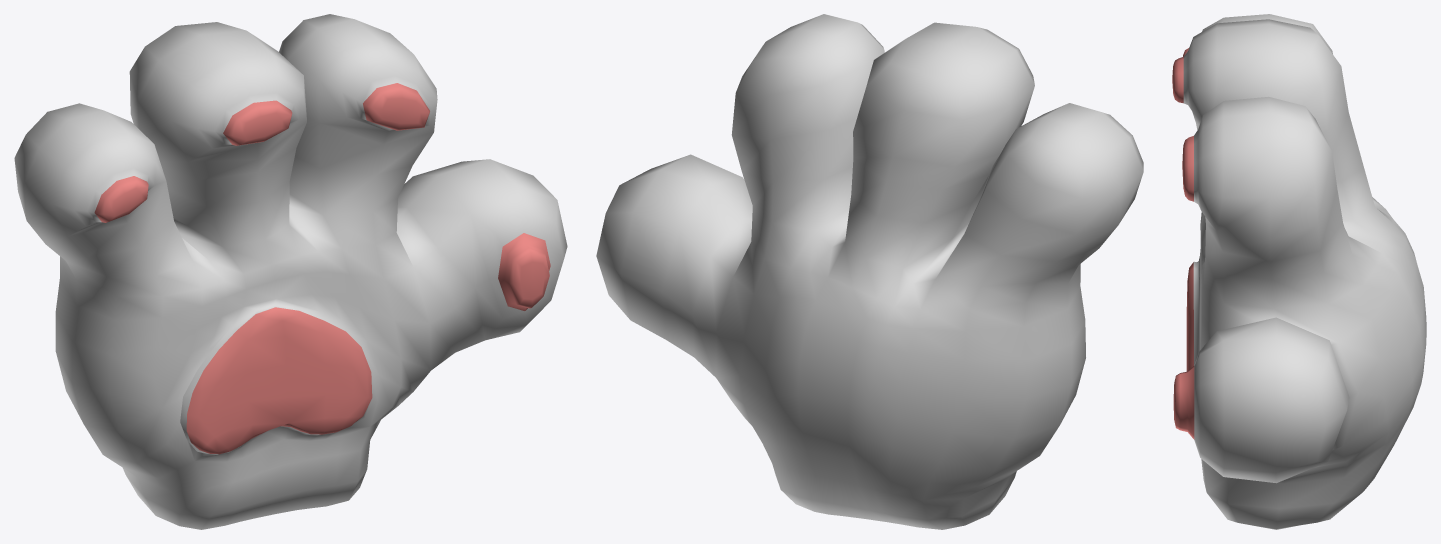
The model's file is geo_FurryGlove.fbx.
3 renders of one model, left to right at view 1: azimuth 30°, elevation 25°; view 2: azimuth 150°, elevation 25°; view 3: azimuth 270°, elevation 25°, orthographic. The views are drawn at different scales.
Visible parts, largest first — view 1: Glove; view 2: Glove; view 3: Glove.
Boxes of the visible parts, x1=… form: Glove: x1=14, y1=14, x2=567, y2=529; Glove: x1=596, y1=14, x2=1143, y2=529; Glove: x1=1172, y1=14, x2=1426, y2=529.
Bounding box in the file's own units: 163 × 145 × 74.64.
